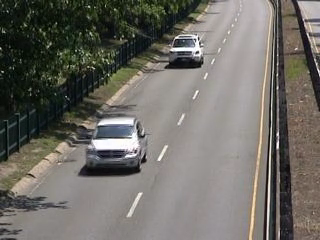car: (82, 115, 154, 176), (167, 33, 208, 69)
